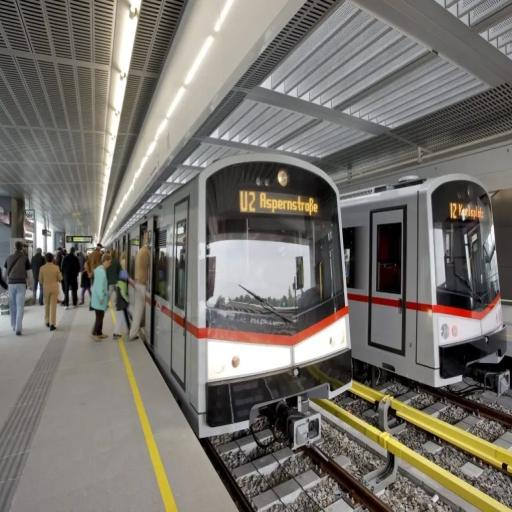V-Wagen: (113, 149, 351, 430), (349, 170, 505, 386)
